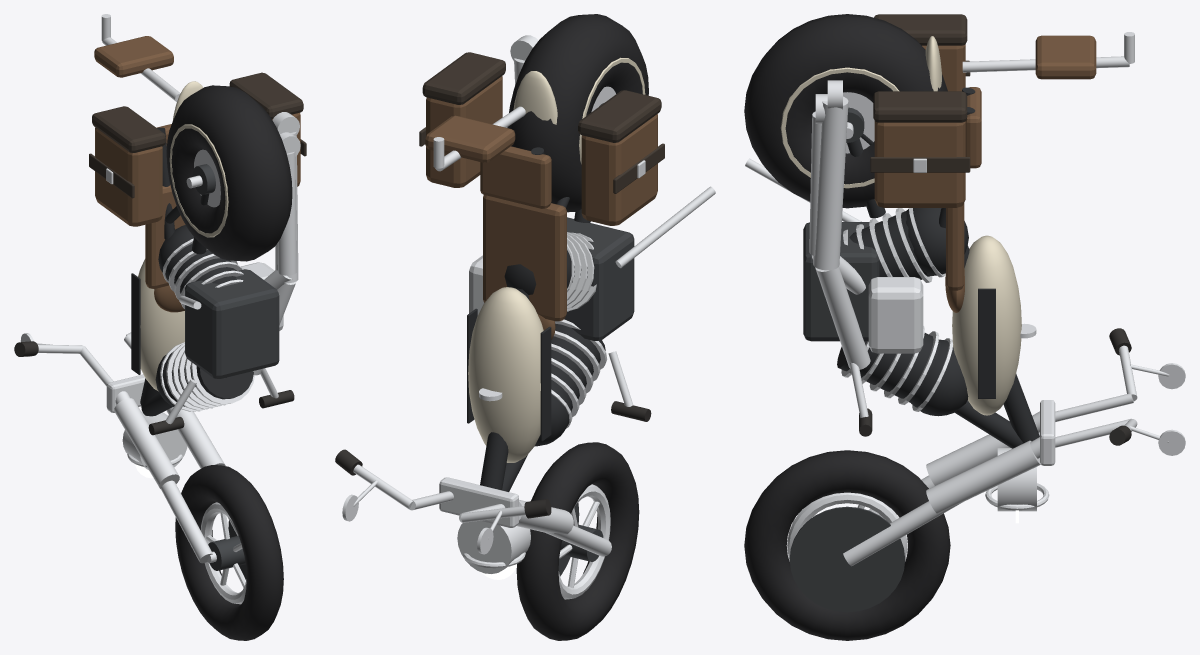
The model's file is bike_cruiser.glb.
3 views of the same model, side by side, from view 1: azimuth 30°, elevation 25°; view 2: azimuth 150°, elevation 25°; view 3: azimuth 270°, elevation 25° (orthographic). The views are drawn at different scales.
Parts seen in each view (by area): view 1: cr_rear_tire, cr_front_tire, cr_crank, cr_bag-1, cr_tank, cr_back_pad, cr_fork_shroud, cr_bag_flap-1, cr_bag_flap1, cr_saddle, cr_fork, cr_fork_shroud.001 (+23 smaller); view 2: cr_front_tire, cr_rear_tire, cr_tank, cr_saddle, cr_bag-1, cr_crank, cr_pillion, cr_bag1, cr_bag_flap-1, cr_bag_flap1, cr_back_pad, cr_lamp_can (+18 smaller); view 3: cr_front_tire, cr_rear_tire, cr_front_brake, cr_tank, cr_bag1, cr_pipe_b, cr_crank, cr_airbox, cr_fork_shroud.001, cr_bag_flap1, cr_back_pad, cr_pipe_a (+24 smaller).
Boxes of the visible parts, x1=… form: cr_rear_tire: x1=166, y1=85, x2=292, y2=261; cr_front_tire: x1=175, y1=465, x2=283, y2=640; cr_crank: x1=185, y1=269, x2=279, y2=378; cr_bag-1: x1=95, y1=127, x2=162, y2=226; cr_tank: x1=138, y1=259, x2=184, y2=391; cr_back_pad: x1=94, y1=36, x2=173, y2=77; cr_fork_shroud: x1=114, y1=398, x2=179, y2=488; cr_bag_flap-1: x1=92, y1=106, x2=165, y2=152; cr_bag_flap1: x1=229, y1=72, x2=303, y2=119; cr_saddle: x1=145, y1=185, x2=185, y2=288; cr_fork: x1=115, y1=391, x2=212, y2=563; cr_fork_shroud.001: x1=166, y1=407, x2=225, y2=468; cr_front_tire: x1=516, y1=442, x2=639, y2=640; cr_rear_tire: x1=507, y1=14, x2=648, y2=212; cr_tank: x1=468, y1=287, x2=543, y2=462; cr_saddle: x1=483, y1=195, x2=566, y2=321; cr_bag-1: x1=581, y1=114, x2=657, y2=225; cr_crank: x1=564, y1=217, x2=634, y2=340; cr_pillion: x1=480, y1=146, x2=551, y2=208; cr_bag1: x1=426, y1=76, x2=502, y2=187; cr_bag_flap-1: x1=578, y1=90, x2=661, y2=142; cr_bag_flap1: x1=422, y1=52, x2=505, y2=104; cr_back_pad: x1=425, y1=115, x2=515, y2=162; cr_lamp_can: x1=457, y1=520, x2=530, y2=573; cr_front_tire: x1=744, y1=450, x2=950, y2=640; cr_rear_tire: x1=744, y1=14, x2=947, y2=208; cr_front_brake: x1=789, y1=506, x2=905, y2=612; cr_tank: x1=952, y1=235, x2=1021, y2=415; cr_bag1: x1=874, y1=121, x2=965, y2=207; cr_pipe_b: x1=813, y1=96, x2=848, y2=270; cr_crank: x1=803, y1=222, x2=879, y2=341; cr_airbox: x1=868, y1=277, x2=923, y2=353; cr_fork_shroud.001: x1=926, y1=440, x2=1040, y2=513; cr_bag_flap1: x1=873, y1=91, x2=967, y2=122; cr_back_pad: x1=1035, y1=35, x2=1096, y2=79; cr_pipe_a: x1=815, y1=267, x2=870, y2=369.
Size of the model in its own units: 0.821 by 2.26 by 1.45.
